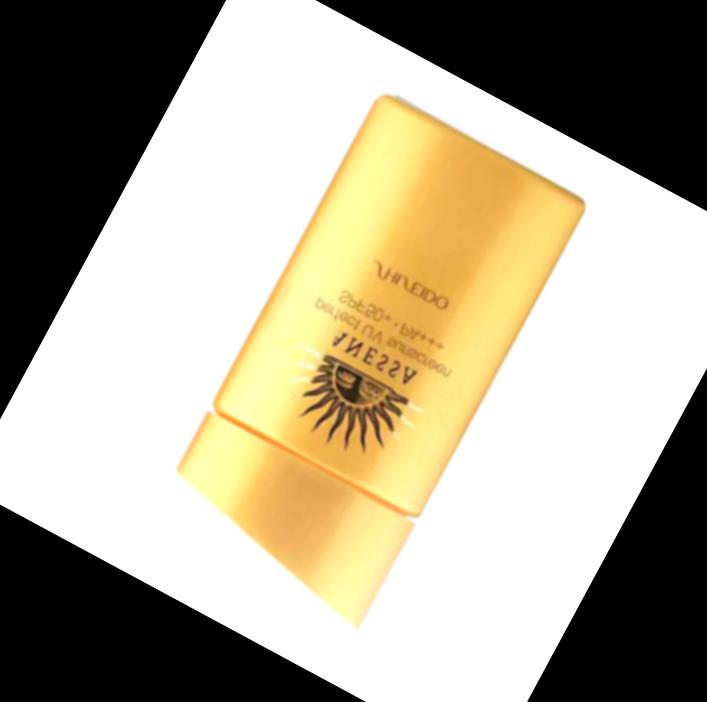cosmetic: (144, 91, 588, 644)
